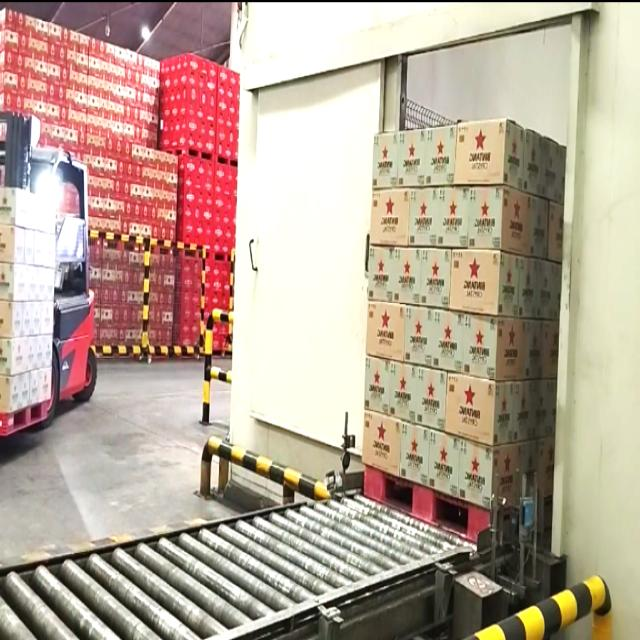pallet: (358, 104, 569, 562), (0, 174, 55, 451)
